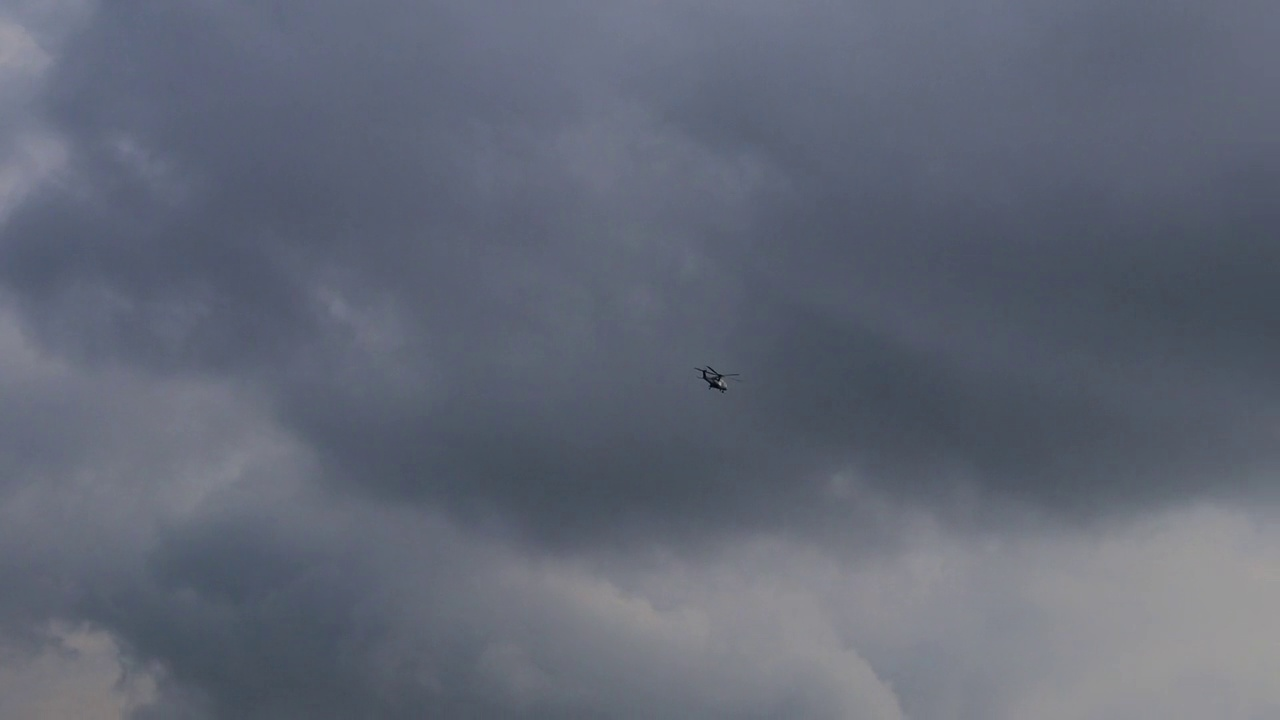heli: (696, 365, 744, 395)
